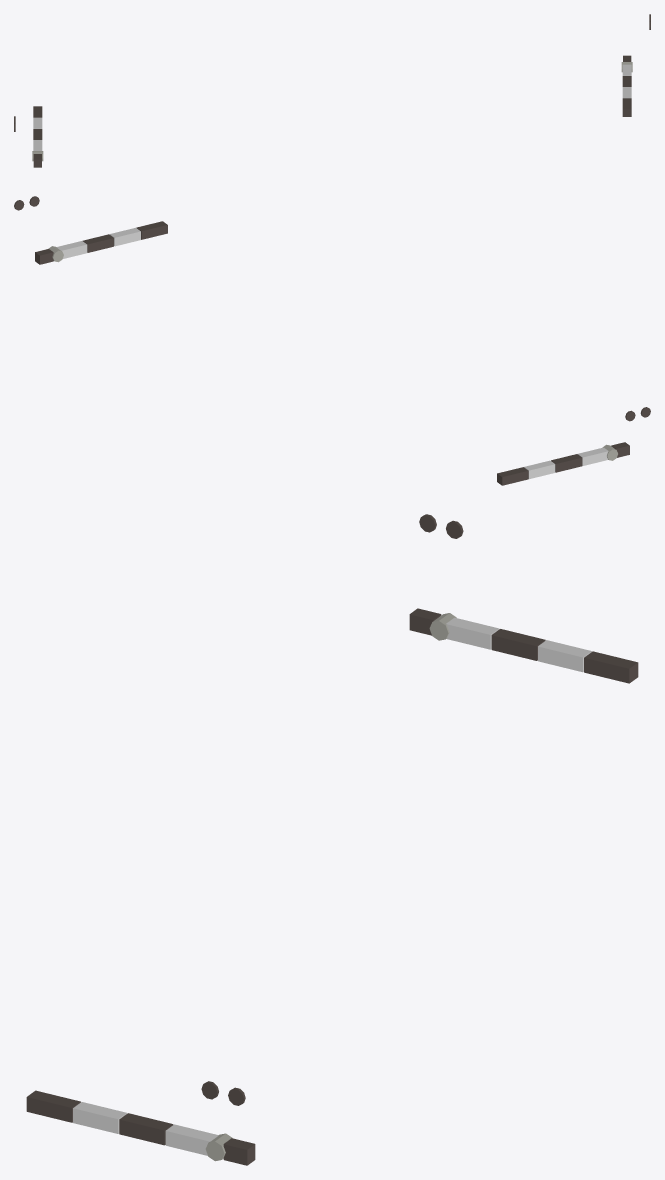
File: SM_PasoNivel_30_v0_Teja_LOD1.fbx
The picture shows the model from 3 angles, top to bottom: view 1: azimuth 30°, elevation 25°; view 2: azimuth 150°, elevation 25°; view 3: azimuth 270°, elevation 25°; orthographic projection. The views are drawn at different scales.
Visible parts, largest first — view 1: Barrera_2, Barrera_1; view 2: Barrera_2, Barrera_1; view 3: Barrera_1, Barrera_2.
Boxes of the visible parts, bbox=[...] form: Barrera_2: bbox=[32, 106, 43, 167]; Barrera_1: bbox=[621, 55, 632, 116]; Barrera_2: bbox=[497, 442, 629, 485]; Barrera_1: bbox=[35, 221, 167, 264]; Barrera_1: bbox=[26, 1090, 255, 1165]; Barrera_2: bbox=[409, 608, 638, 683].
Size of what is drawn, in the model's own units: 24.99 by 1.91 by 11.16.
